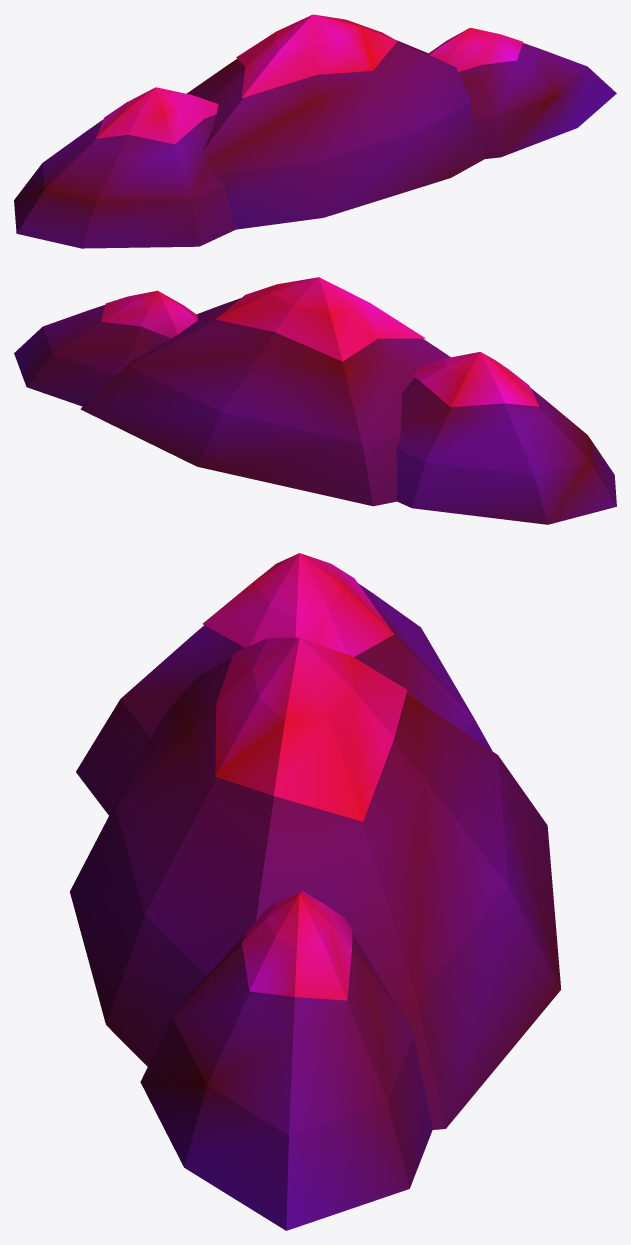
File: Mountain_Back_03.fbx
3 views of the same model, one above another, from view 1: azimuth 30°, elevation 25°; view 2: azimuth 150°, elevation 25°; view 3: azimuth 270°, elevation 25° (orthographic). The views are drawn at different scales.
Visible parts, largest first — view 1: Mountain_Back_03; view 2: Mountain_Back_03; view 3: Mountain_Back_03.
Boxes of the visible parts, x1=… form: Mountain_Back_03: x1=14, y1=14, x2=616, y2=248; Mountain_Back_03: x1=14, y1=277, x2=616, y2=524; Mountain_Back_03: x1=70, y1=553, x2=561, y2=1230.
Bounding box in the file's own units: 101 × 24.25 × 36.01.
